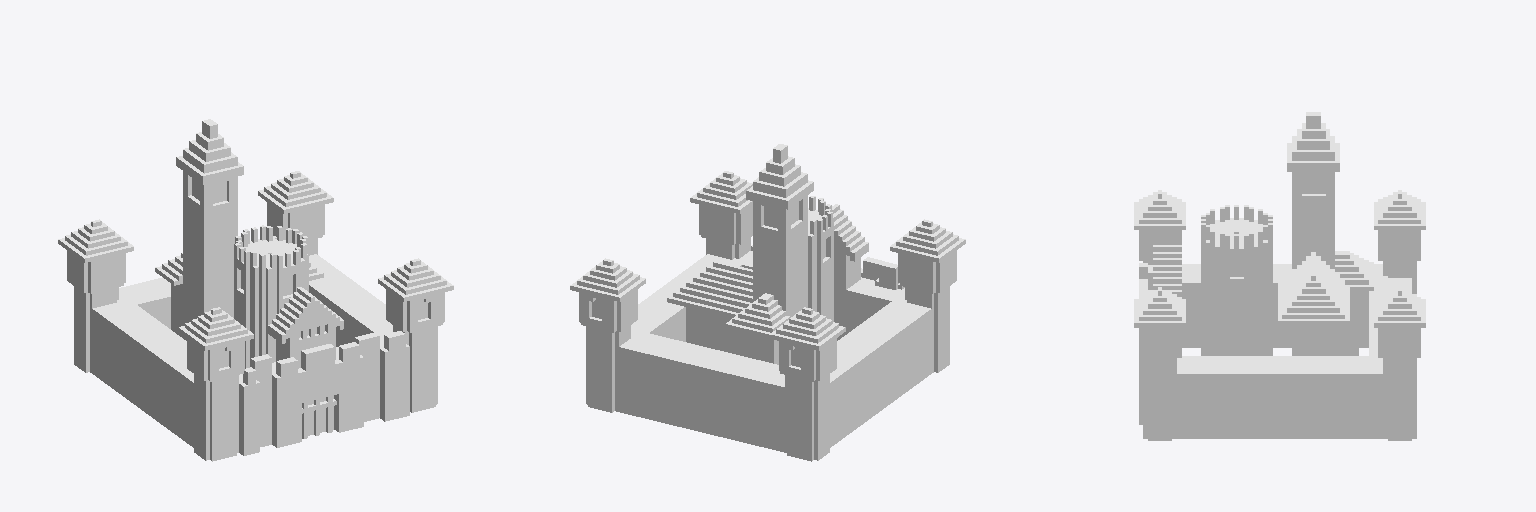
File: GoodFortress2.obj
3 views of the same model, side by side, from view 1: azimuth 30°, elevation 25°; view 2: azimuth 150°, elevation 25°; view 3: azimuth 270°, elevation 25° (orthographic).
Visible parts, largest first — view 1: object 1; view 2: object 1; view 3: object 1.
Part boxes in pixels (x1,y1,x2,y2): object 1: (58, 119, 453, 461); object 1: (570, 144, 965, 461); object 1: (1134, 112, 1425, 440).
Size of the model in its own units: 6 by 5.9 by 6.1.